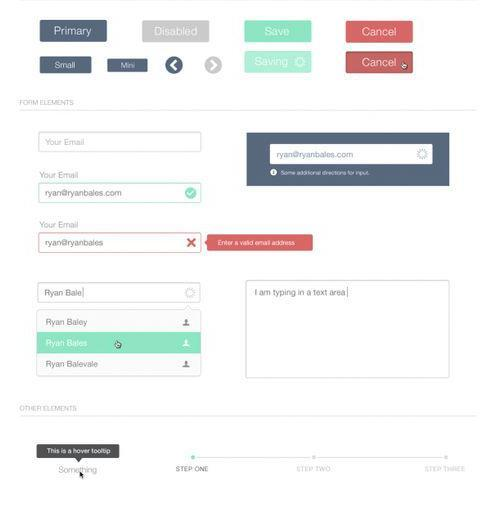button: (38, 334, 202, 354), (40, 20, 108, 44), (347, 52, 415, 76), (245, 21, 313, 44), (347, 21, 415, 44), (144, 21, 211, 44), (245, 52, 313, 74), (40, 56, 93, 75), (108, 60, 150, 74)
dropdown: (38, 284, 201, 304)
icon: (204, 56, 223, 76), (167, 57, 185, 75)
input: (272, 145, 433, 166), (39, 133, 202, 153), (39, 184, 202, 204), (39, 234, 202, 253)
label: (38, 220, 82, 234), (37, 170, 83, 181)
